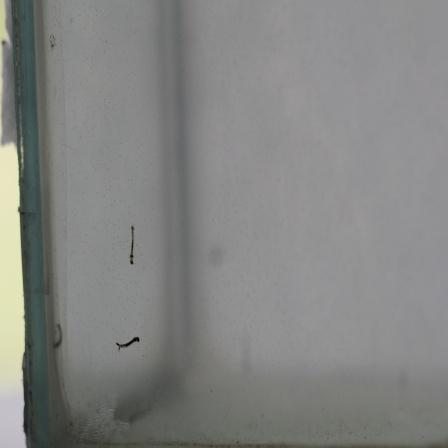Jentik-Nyamuk: (113, 328, 144, 353), (50, 318, 68, 353), (126, 222, 138, 268)
